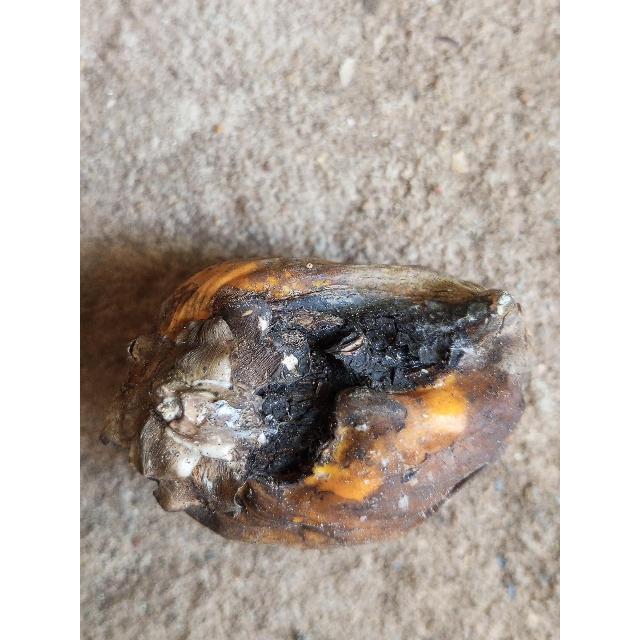damaged: (110, 258, 527, 552)
